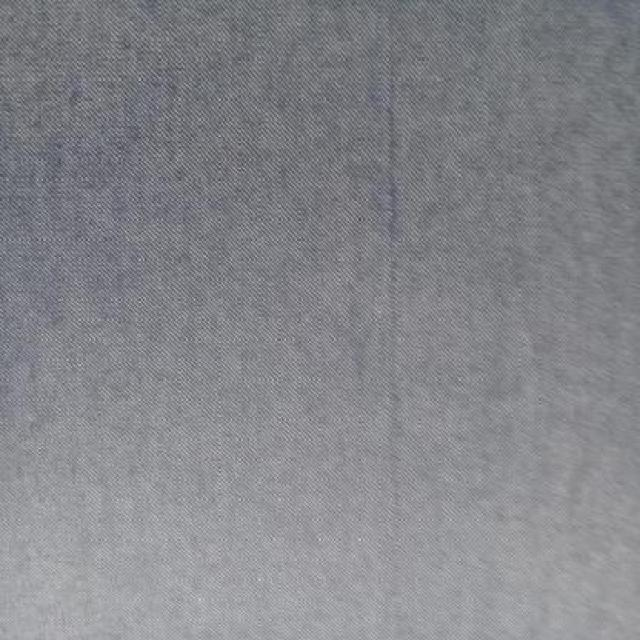pulled_or_thick_thread: (360, 57, 398, 375)
